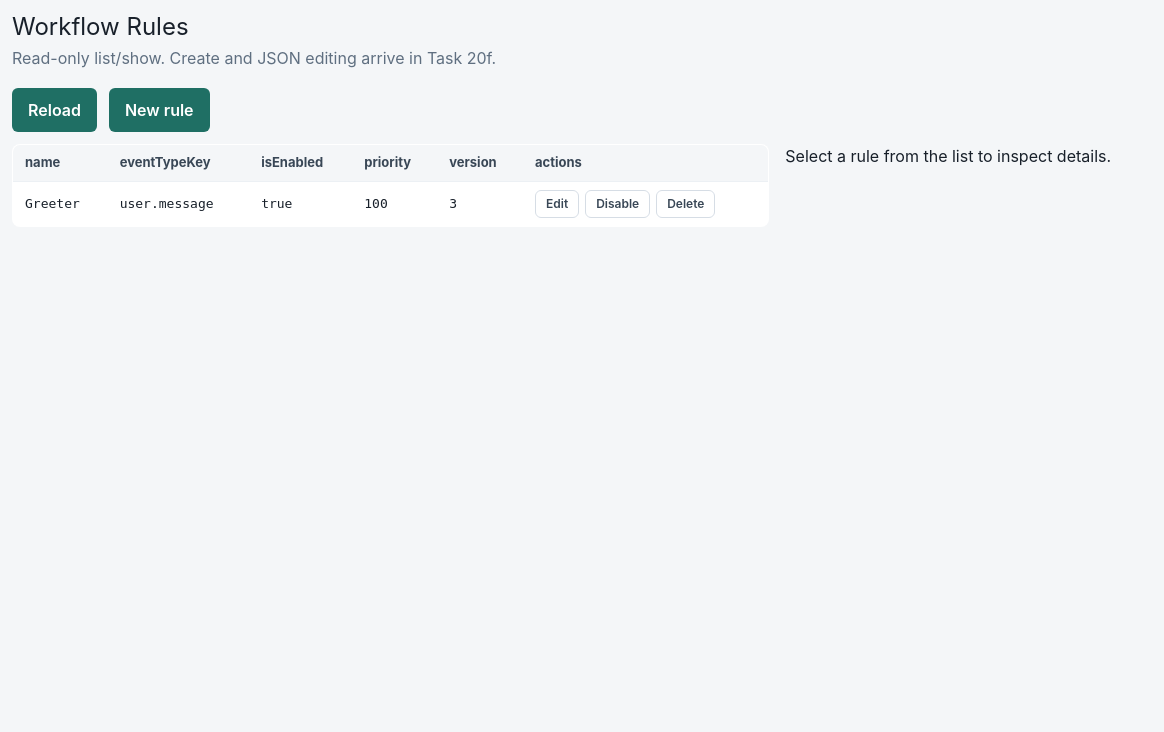
Test: RulesView › should load detail JSON when row name cell is clicked
Click the cell with class "monitor-mono" showing "Greeter".
click(60, 204)  # box [12,181,108,226]
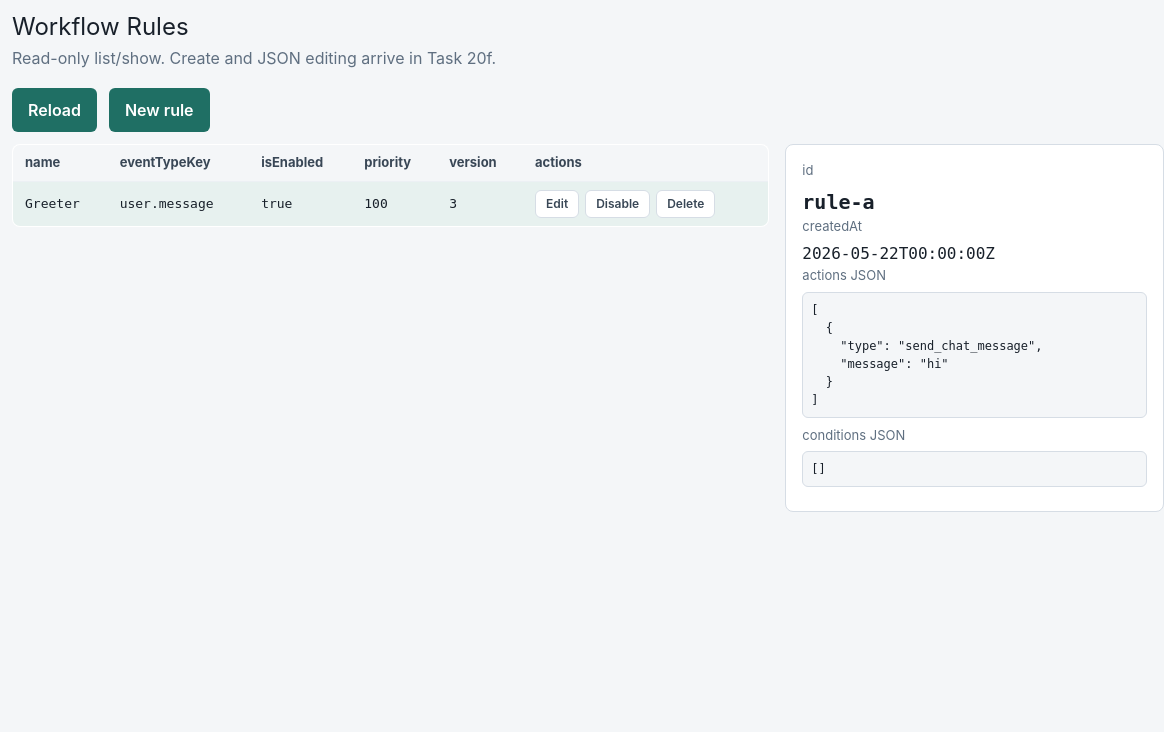
Now the element with test id "rules-detail" is shown, box [785,144,1163,512]
Now the element with test id "rules-detail" shows "send_chat_message", box [811,302,1042,406]
